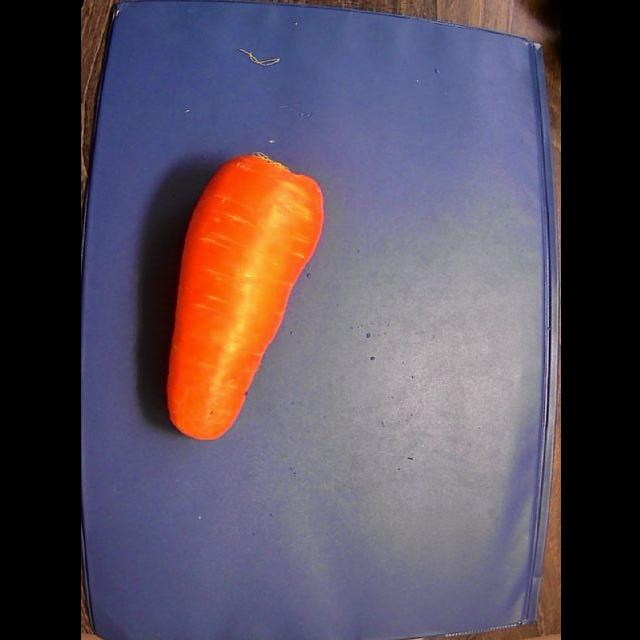zanahoria: (167, 156, 323, 440)
